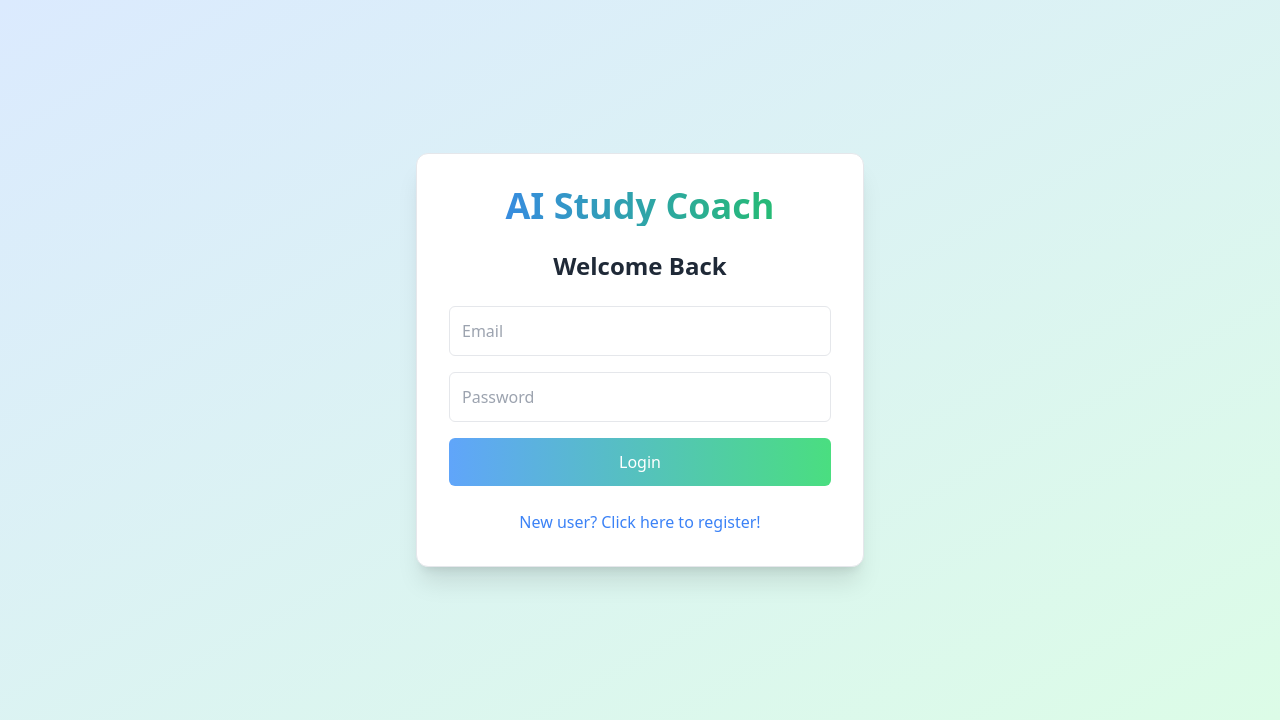
Test: LoginForm Component › switches to register form when register link is clicked
Note: Click register link
Click the button "New user? Click here to register!": (640, 522) 449,510 -> 831,534
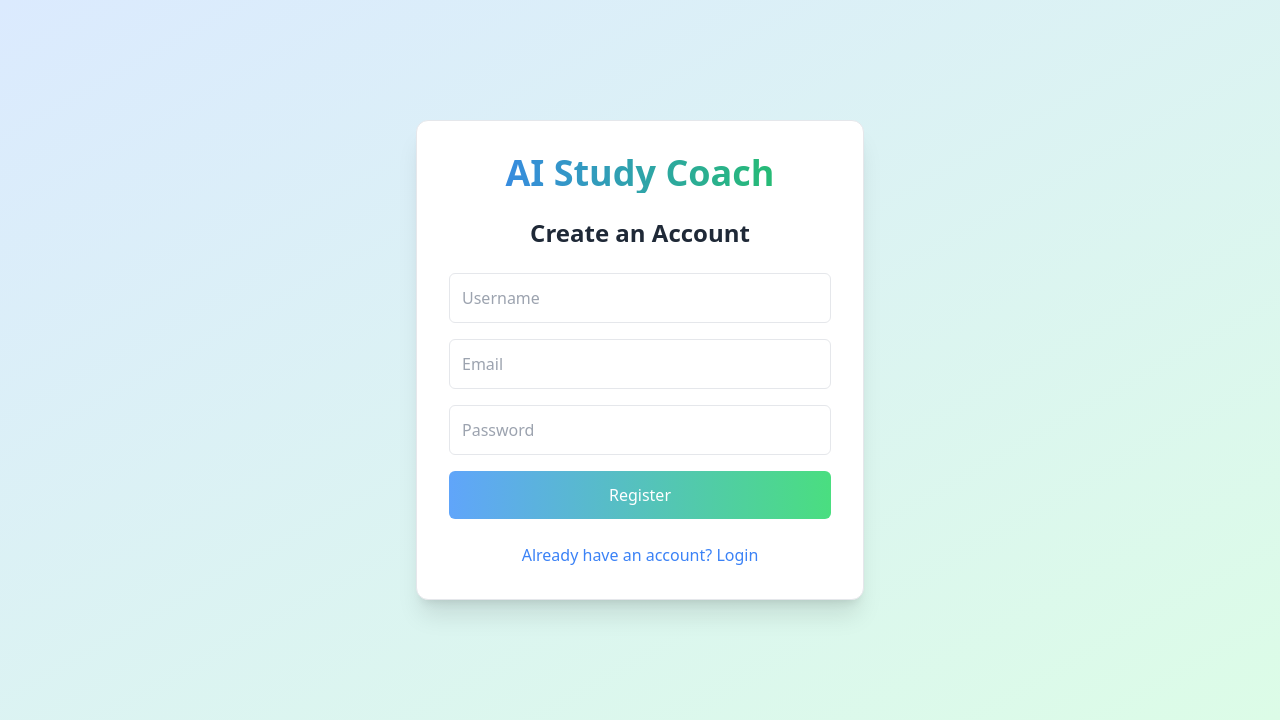
Expected: the heading "Create an Account" is shown, 530,216 -> 750,249
Expected: the field with placeholder "Username" is shown, 449,273 -> 831,323
Expected: the button "Register" is shown, 449,471 -> 831,519
